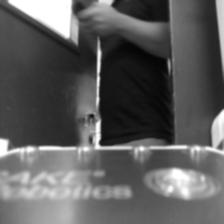Door Handle: (84, 114, 97, 126)
Lock: (90, 131, 96, 146)
